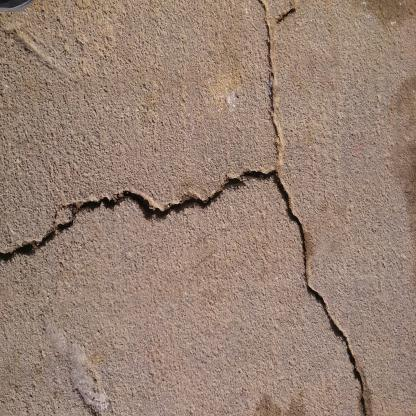Cracks: (259, 0, 372, 416), (0, 165, 278, 268)
